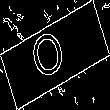O_SE: (33, 23, 77, 87)
